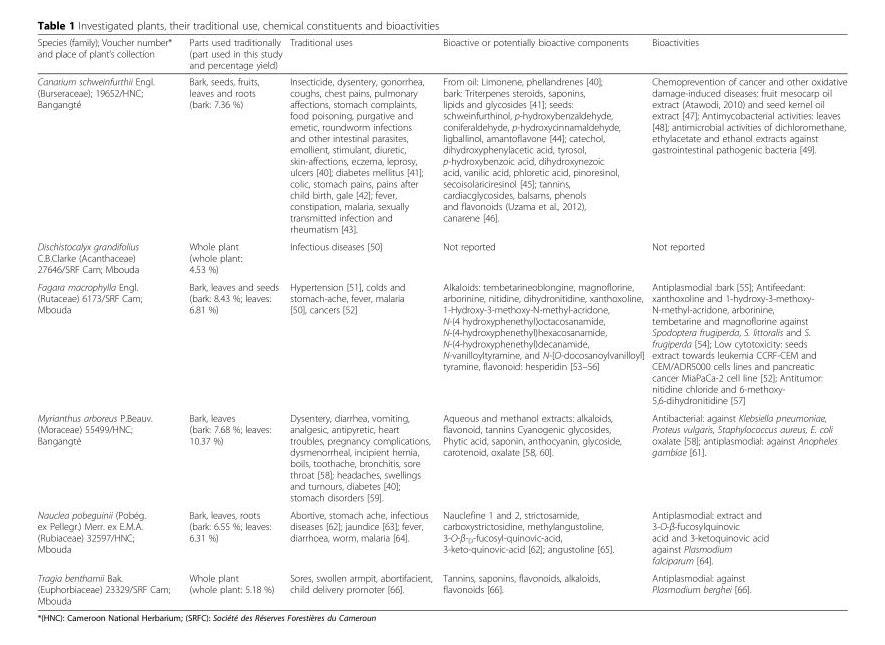table: (36, 36, 846, 605)
table column: (436, 36, 647, 605), (647, 36, 846, 605), (285, 36, 436, 605), (36, 36, 179, 605), (179, 36, 285, 605)
table column header: (36, 36, 846, 72)
table row: (36, 72, 846, 237), (36, 277, 846, 408), (36, 408, 846, 505), (36, 505, 846, 568), (36, 237, 846, 277), (36, 568, 846, 605), (36, 36, 846, 72)
